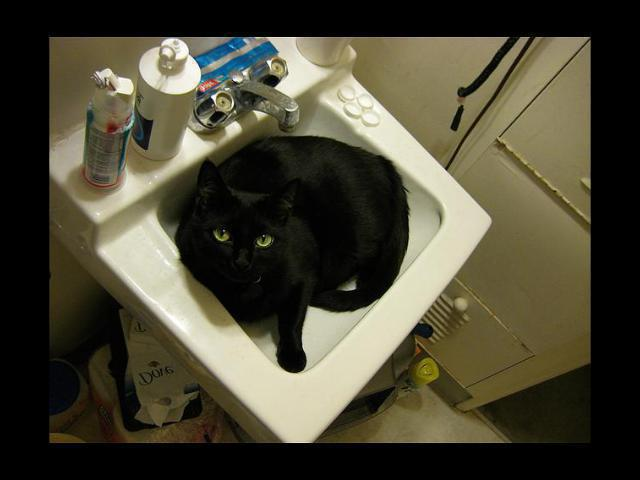Lavamanos: (50, 37, 492, 442)
Otro Obstaculo: (118, 137, 420, 392)
